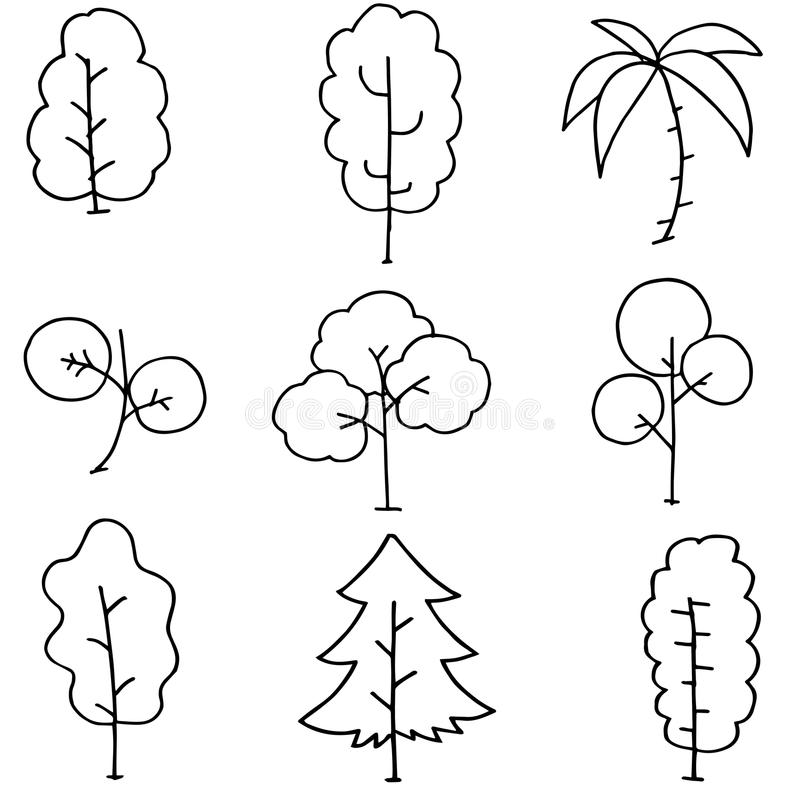tree: (276, 529, 520, 786), (550, 7, 785, 258), (287, 0, 480, 289), (256, 285, 495, 516), (566, 264, 767, 532), (19, 0, 202, 250), (35, 507, 197, 789), (18, 299, 218, 490), (636, 532, 778, 794)
